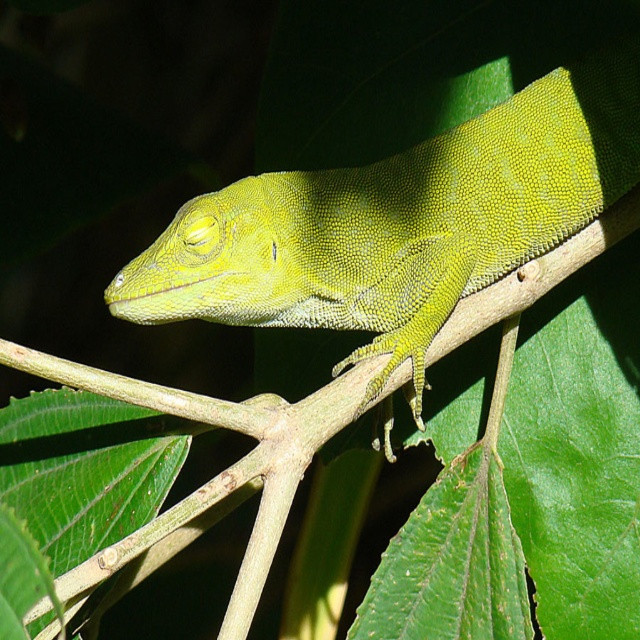Lizard: (107, 176, 638, 418)
